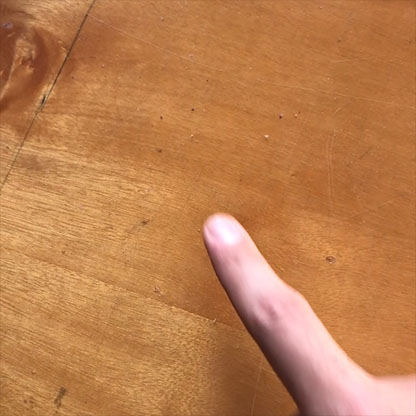fingertip: (192, 198, 255, 262)
